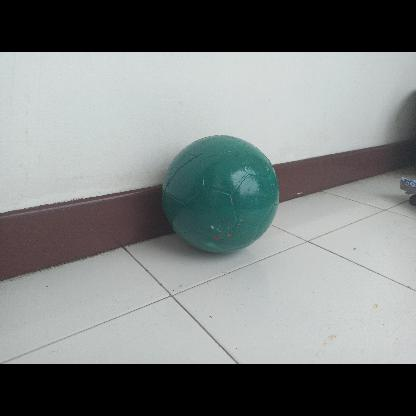green_ball: (162, 134, 280, 254)
